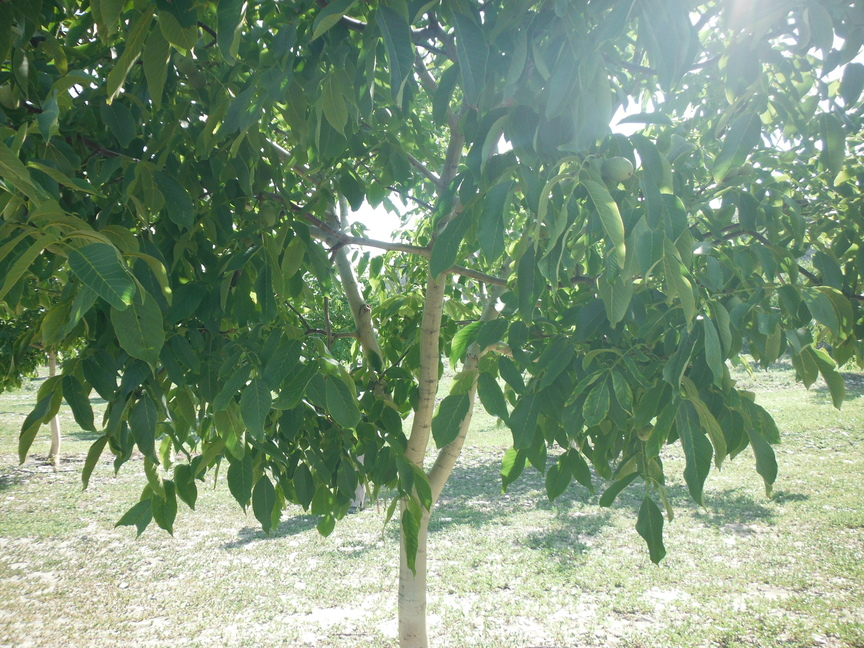walnut: (600, 151, 636, 182), (0, 82, 29, 112), (171, 50, 196, 77), (187, 65, 211, 93), (636, 418, 659, 445), (588, 153, 609, 182), (256, 202, 278, 228), (372, 104, 395, 125), (725, 292, 744, 316), (535, 223, 551, 240)
